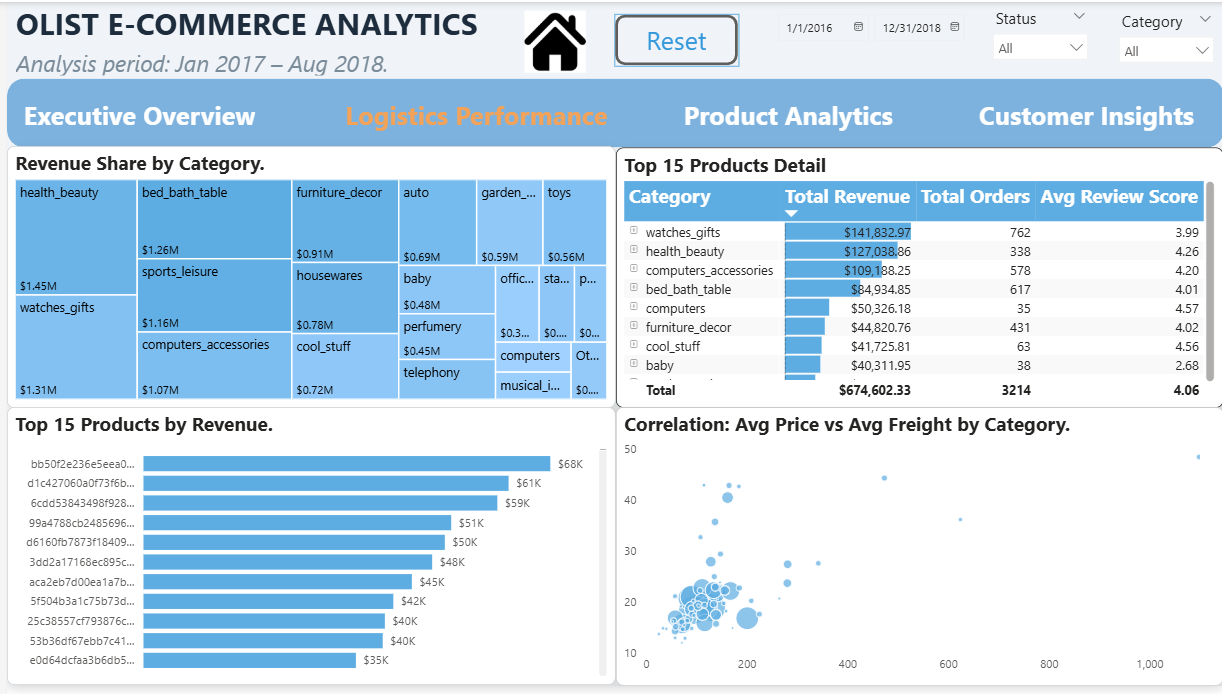

The dashboard page shown, as its layout file describes it:
{"tool":"powerbi","page":{"name":"Logistics","canvas":[1280,720],"ordinal":1},"visuals":[{"type":"shape","title":"OLIST E-COMMERCE ANALYTICS","box":[9.4,0,500.8,77.5],"z":0},{"type":"image","box":[544.7,3.2,64.7,77.4],"z":1000},{"type":"actionButton","box":[639.5,12.6,131.1,55.3],"z":2000},{"type":"slicer","fields":{"Values":["Dim_Date.date"]},"box":[799,3.2,216.3,70],"z":3000},{"type":"slicer","fields":{"Values":["Dim_Customers.customer_state"]},"box":[1027.9,0,120,70],"z":4000},{"type":"slicer","fields":{"Values":["Dim_Products.category"]},"box":[1160.5,3.2,120,70],"z":5000},{"type":"shape","box":[0,80.3,1281,72.7],"z":6000},{"type":"actionButton","box":[9.1,96.9,260.4,39.4],"z":7000},{"type":"actionButton","box":[346.8,96.9,293.8,39.4],"z":8000},{"type":"actionButton","box":[705.6,96.9,233.2,39.4],"z":9000},{"type":"actionButton","box":[1016,96.9,242.3,39.4],"z":10000},{"type":"treemap","title":"Revenue Share by Category.","fields":{"Group":["Dim_Products.category"],"Values":["_KeyMeasures.Total Revenue"]},"box":[0,151.2,640.6,275.9],"z":11000},{"type":"clusteredBarChart","title":"Top 15 Products by Revenue.","fields":{"Y":["_KeyMeasures.Total Revenue"],"Category":["Dim_Products.product_id"]},"box":[0,427.1,640.6,292.9],"z":12000},{"type":"pivotTable","title":"Top 15 Products Detail","fields":{"Rows":["Dim_Products.category","Dim_Products.product_id"],"Values":["_KeyMeasures.Total Revenue","_KeyMeasures.Total Orders","_KeyMeasures.Avg Review Score"]},"box":[641,153,639,274],"z":13000},{"type":"scatterChart","title":"Correlation: Avg Price vs Avg Freight by Category.","fields":{"Category":["Dim_Products.category"],"X":["Avg(Fact_Order_Items.price)"],"Y":["Avg(Fact_Order_Items.freight_value)"],"Size":["_KeyMeasures.Total Orders"]},"box":[641,427,639,293],"z":14000}]}

Visuals, with their boxes in screenshot pixels (x1, y1, x2, y2), scaled from the page's 1280x720 canvas onto the 1222x694 screenshot:
"OLIST E-COMMERCE ANALYTICS" shape: [9,0,487,75]
image: [520,3,582,78]
actionButton: [611,12,736,65]
slicer - Dim_Date.date: [763,3,969,71]
slicer - Dim_Customers.customer_state: [981,0,1096,67]
slicer - Dim_Products.category: [1108,3,1221,71]
shape: [0,77,1221,147]
actionButton: [9,93,257,131]
actionButton: [331,93,612,131]
actionButton: [674,93,896,131]
actionButton: [970,93,1201,131]
"Revenue Share by Category." treemap: [0,146,612,412]
"Top 15 Products by Revenue." clusteredBarChart: [0,412,612,693]
"Top 15 Products Detail" pivotTable: [612,147,1221,412]
"Correlation: Avg Price vs Avg Freight by Category." scatterChart: [612,412,1221,693]
